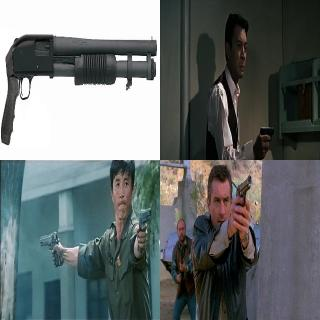gun: (0, 14, 156, 153), (230, 174, 255, 232), (36, 232, 62, 270), (136, 205, 152, 257), (258, 124, 275, 150)
